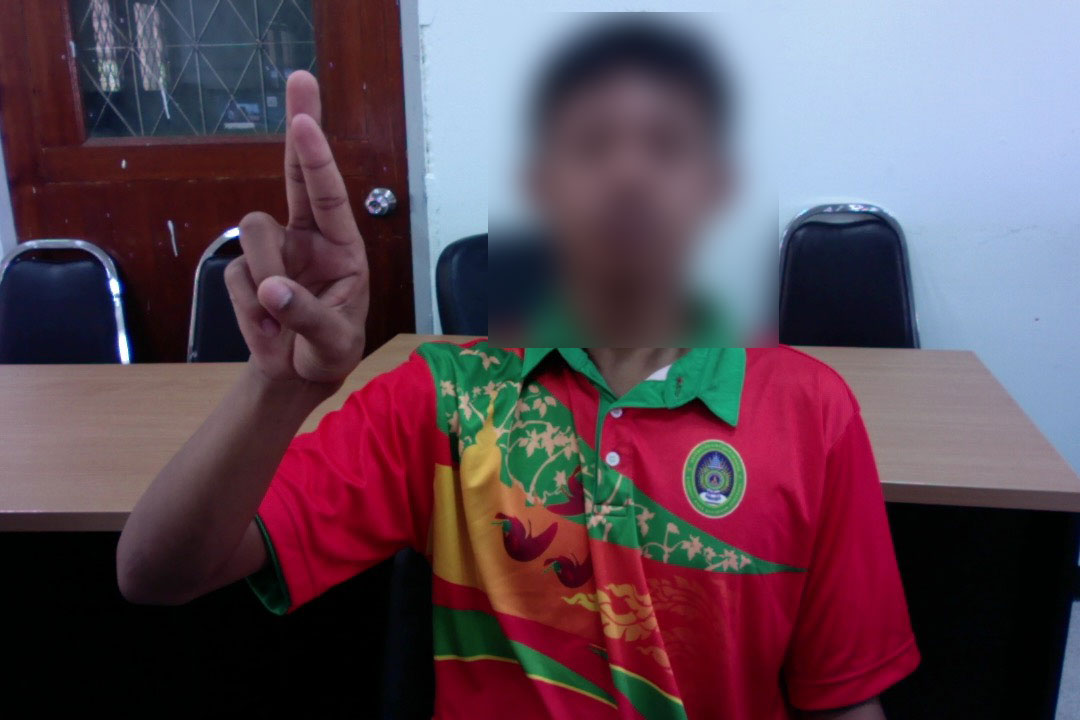rao: (227, 63, 378, 392)
